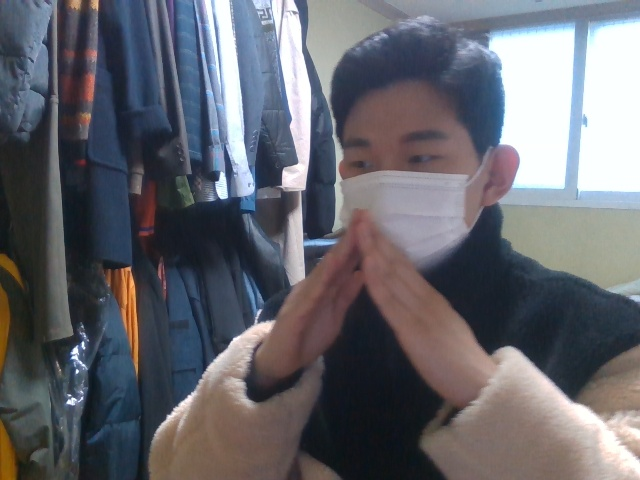HOME: (253, 206, 481, 403)
